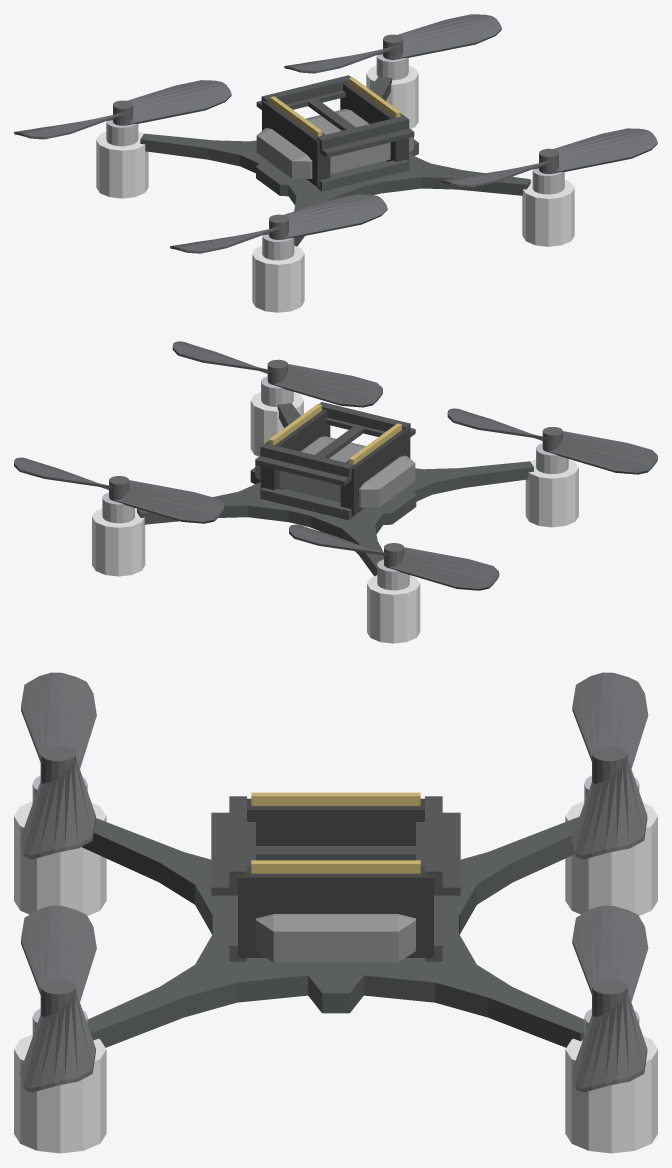
File: Crazyflie_2_1.glb
3 views of the same model, one above another, from view 1: azimuth 30°, elevation 25°; view 2: azimuth 150°, elevation 25°; view 3: azimuth 270°, elevation 25° (orthographic). The views are drawn at different scales.
Visible parts, largest first — view 1: Body, m4_prop, Battery_Holder, m1_prop, m2_prop, m3_prop, Battery, Motor_Mount_2, Motor_Mount_1, Motor_Mount_3, Motors, Pin_Header_L (+4 smaller); view 2: Body, Battery_Holder, m1_prop, m2_prop, m4_prop, m3_prop, Battery, Motor_Mount_3, Motor_Mount_4, Motor_Mount_2, Motors, Pin_Header_L (+4 smaller); view 3: Body, m2_prop, m1_prop, m4_prop, m3_prop, Pin_Header_R, Battery_Holder, Battery, Motor_Mount_1, Motor_Mount_4, Pin_Header_L, Motor_Mount_3 (+4 smaller).
Boxes of the visible parts, x1,y1,x2,y2 form: Body: (140,76,530,246); m4_prop: (284,14,501,73); Battery_Holder: (256,75,414,157); m1_prop: (440,128,657,187); m2_prop: (170,194,387,253); m3_prop: (14,80,231,139); Battery: (256,109,413,178); Motor_Mount_2: (252,245,304,312); Motor_Mount_1: (522,179,574,246); Motor_Mount_3: (96,131,148,198); Motors: (106,54,564,260); Pin_Header_L: (262,100,330,186); Body: (137,403,533,576); Battery_Holder: (255,402,415,485); m1_prop: (172,341,382,407); m2_prop: (447,408,657,474); m4_prop: (14,457,224,523); m3_prop: (289,524,499,590); Battery: (255,436,415,507); Motor_Mount_3: (367,575,420,643); Motor_Mount_4: (92,508,145,576); Motor_Mount_2: (525,459,578,527); Motors: (102,376,568,590); Pin_Header_L: (340,428,410,515); Body: (82,816,584,1047); m2_prop: (20,672,96,859); m1_prop: (20,905,96,1092); m4_prop: (571,905,648,1092); m3_prop: (571,672,648,859); Pin_Header_R: (238,866,433,957); Battery_Holder: (211,796,460,895); Battery: (256,914,415,962); Motor_Mount_1: (14,1034,106,1153); Motor_Mount_4: (565,1036,657,1153); Pin_Header_L: (247,798,424,845); Motor_Mount_3: (565,801,657,915).
Bounding box in the file's own units: 0.109 × 0.0235 × 0.0724.
